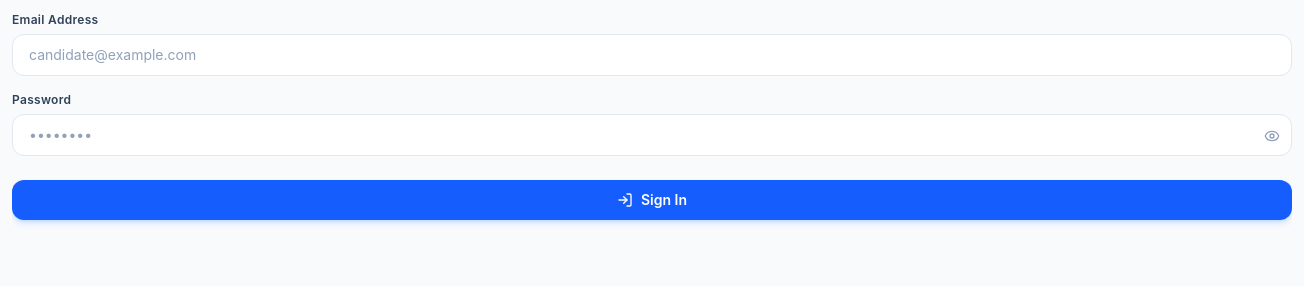
Authentication Tests › LoginForm › renders login form validation errors when submitted empty
The image size is (1304, 286).
Click the button "Sign In". click: click(652, 200)
box: [12,180,1292,220]
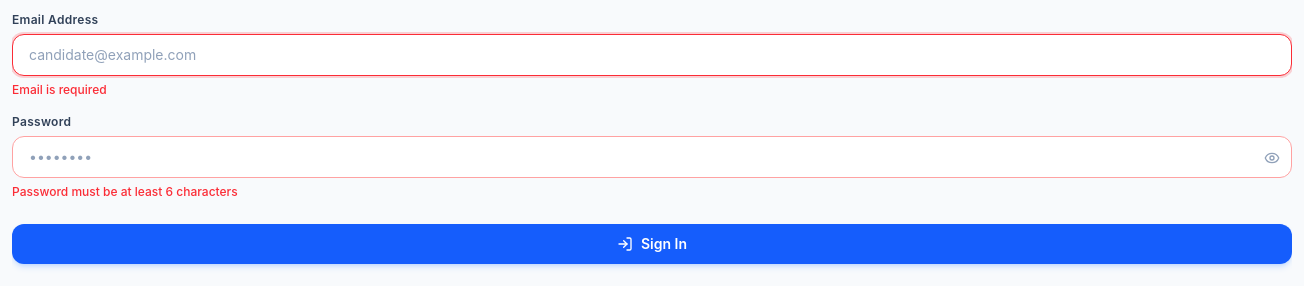
Expected: the text "Email is required" is shown, [12,82,107,97]
Expected: the text "Password must be at least 6 characters" is shown, [12,184,238,199]
